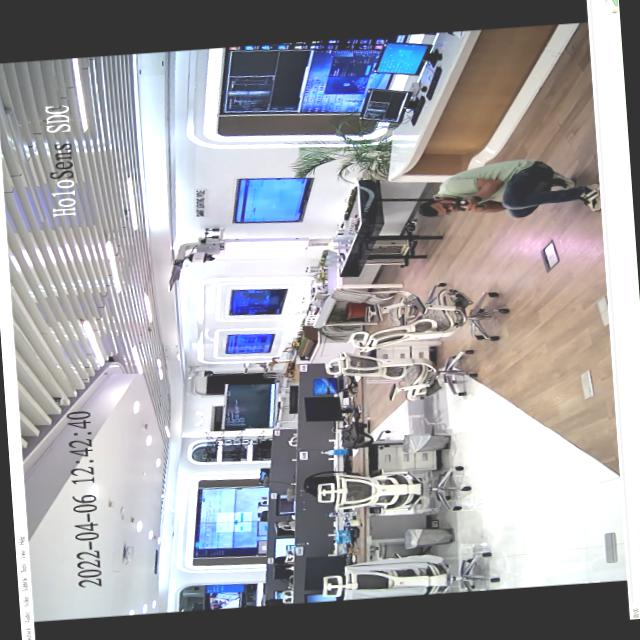long weapon: (444, 190, 486, 216)
